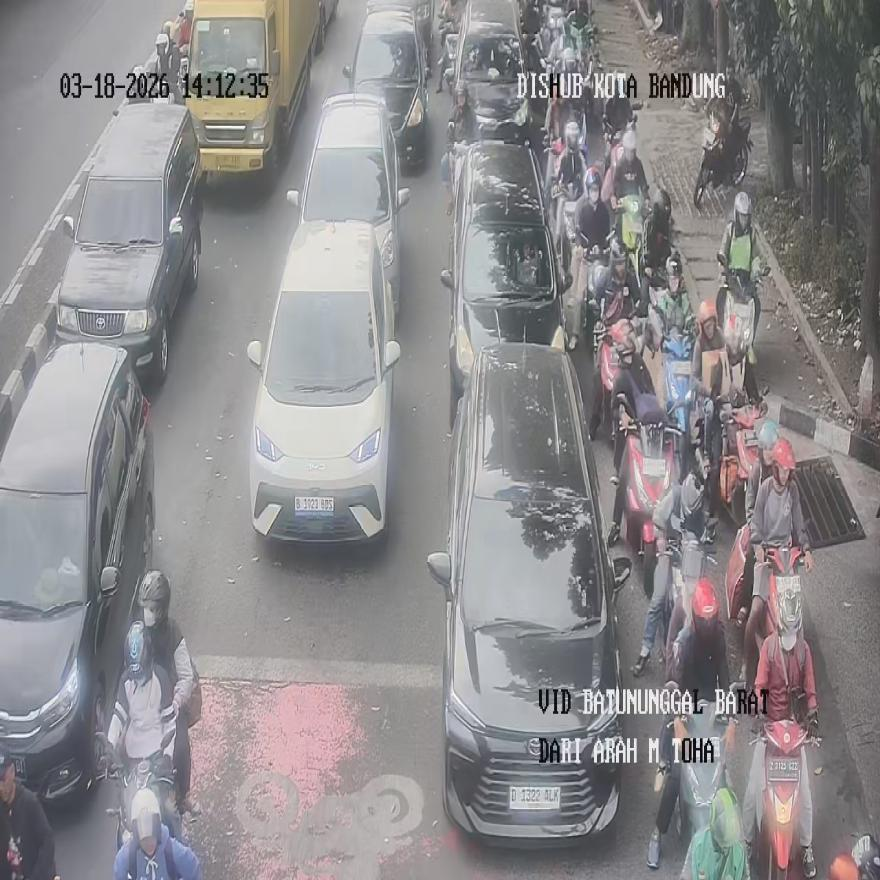Mobil: (426, 342, 630, 845), (0, 341, 154, 805), (248, 221, 400, 545), (54, 100, 202, 383), (442, 138, 568, 394), (286, 90, 409, 326), (181, 0, 321, 181), (343, 0, 430, 170)
Motor: (613, 394, 680, 595), (749, 715, 819, 879), (675, 694, 735, 856), (110, 752, 178, 856), (680, 786, 750, 880), (716, 398, 765, 527), (589, 319, 637, 444), (693, 111, 751, 207), (717, 282, 759, 407), (715, 250, 760, 362), (615, 193, 646, 312), (601, 72, 634, 169), (552, 182, 580, 296), (580, 246, 609, 350), (828, 832, 879, 880), (434, 2, 458, 93)
